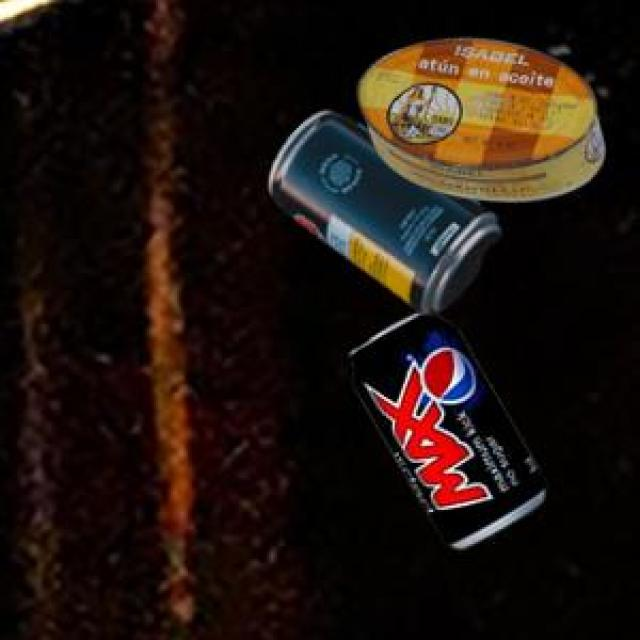logam: (266, 108, 496, 313), (349, 310, 543, 545), (355, 35, 601, 197)
